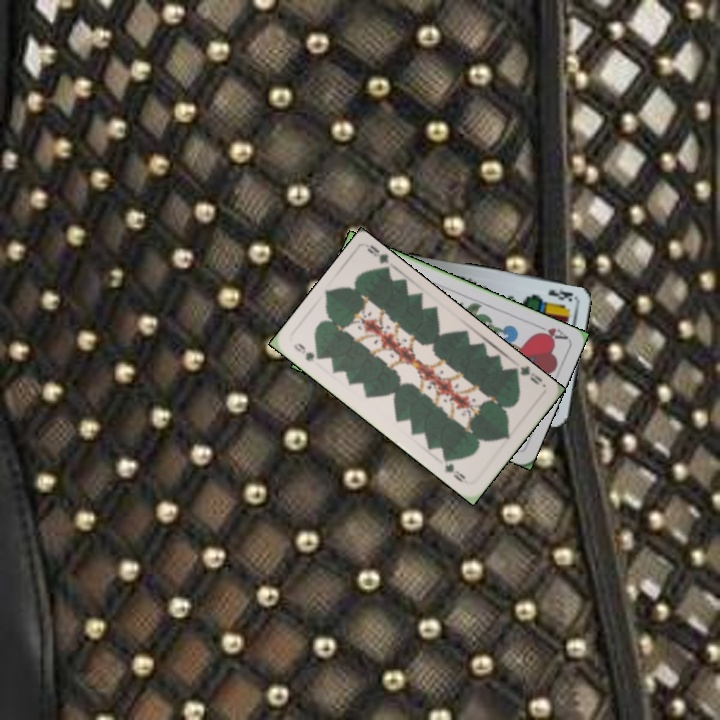EK: (544, 286, 576, 304)
G9: (289, 339, 326, 365), (509, 362, 545, 388)
HA: (531, 320, 570, 343)
